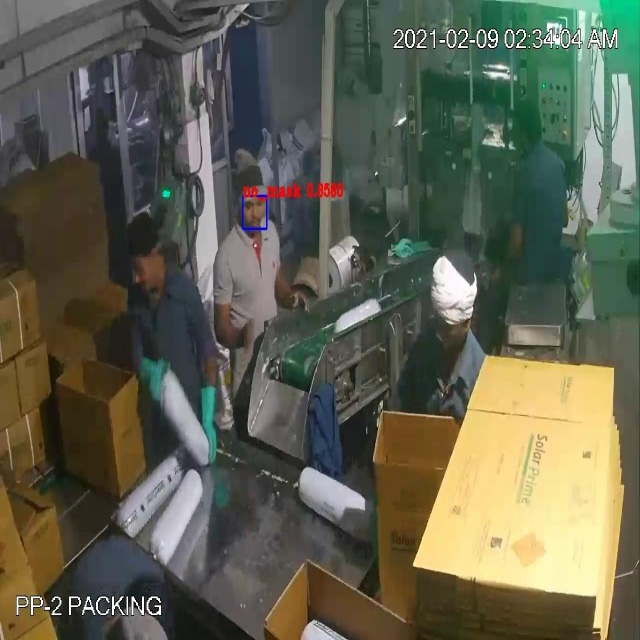Guantes: (185, 376, 232, 476), (124, 334, 172, 425)
Sin_guantes: (204, 288, 267, 360), (481, 213, 530, 284), (262, 260, 313, 324)
